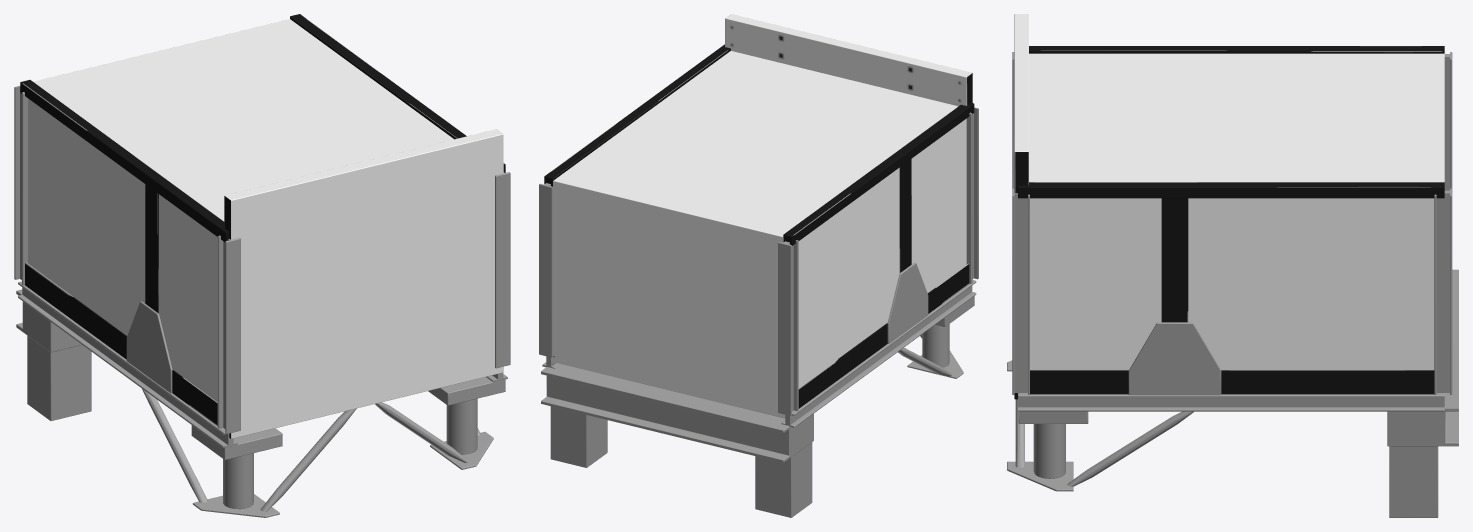
File: lamp_rover_polished.fbx
3 views of the same model, side by side, from view 1: azimuth 30°, elevation 25°; view 2: azimuth 150°, elevation 25°; view 3: azimuth 270°, elevation 25° (orthographic). The views are drawn at different scales.
Visible parts, largest first — view 1: Plane; view 2: Plane; view 3: Plane.
Boxes of the visible parts, x1,y1,x2,y2 form: Plane: (14,14,510,517); Plane: (539,14,978,517); Plane: (1007,14,1458,517).
Bounding box in the file's own units: 120 × 139 × 155.
